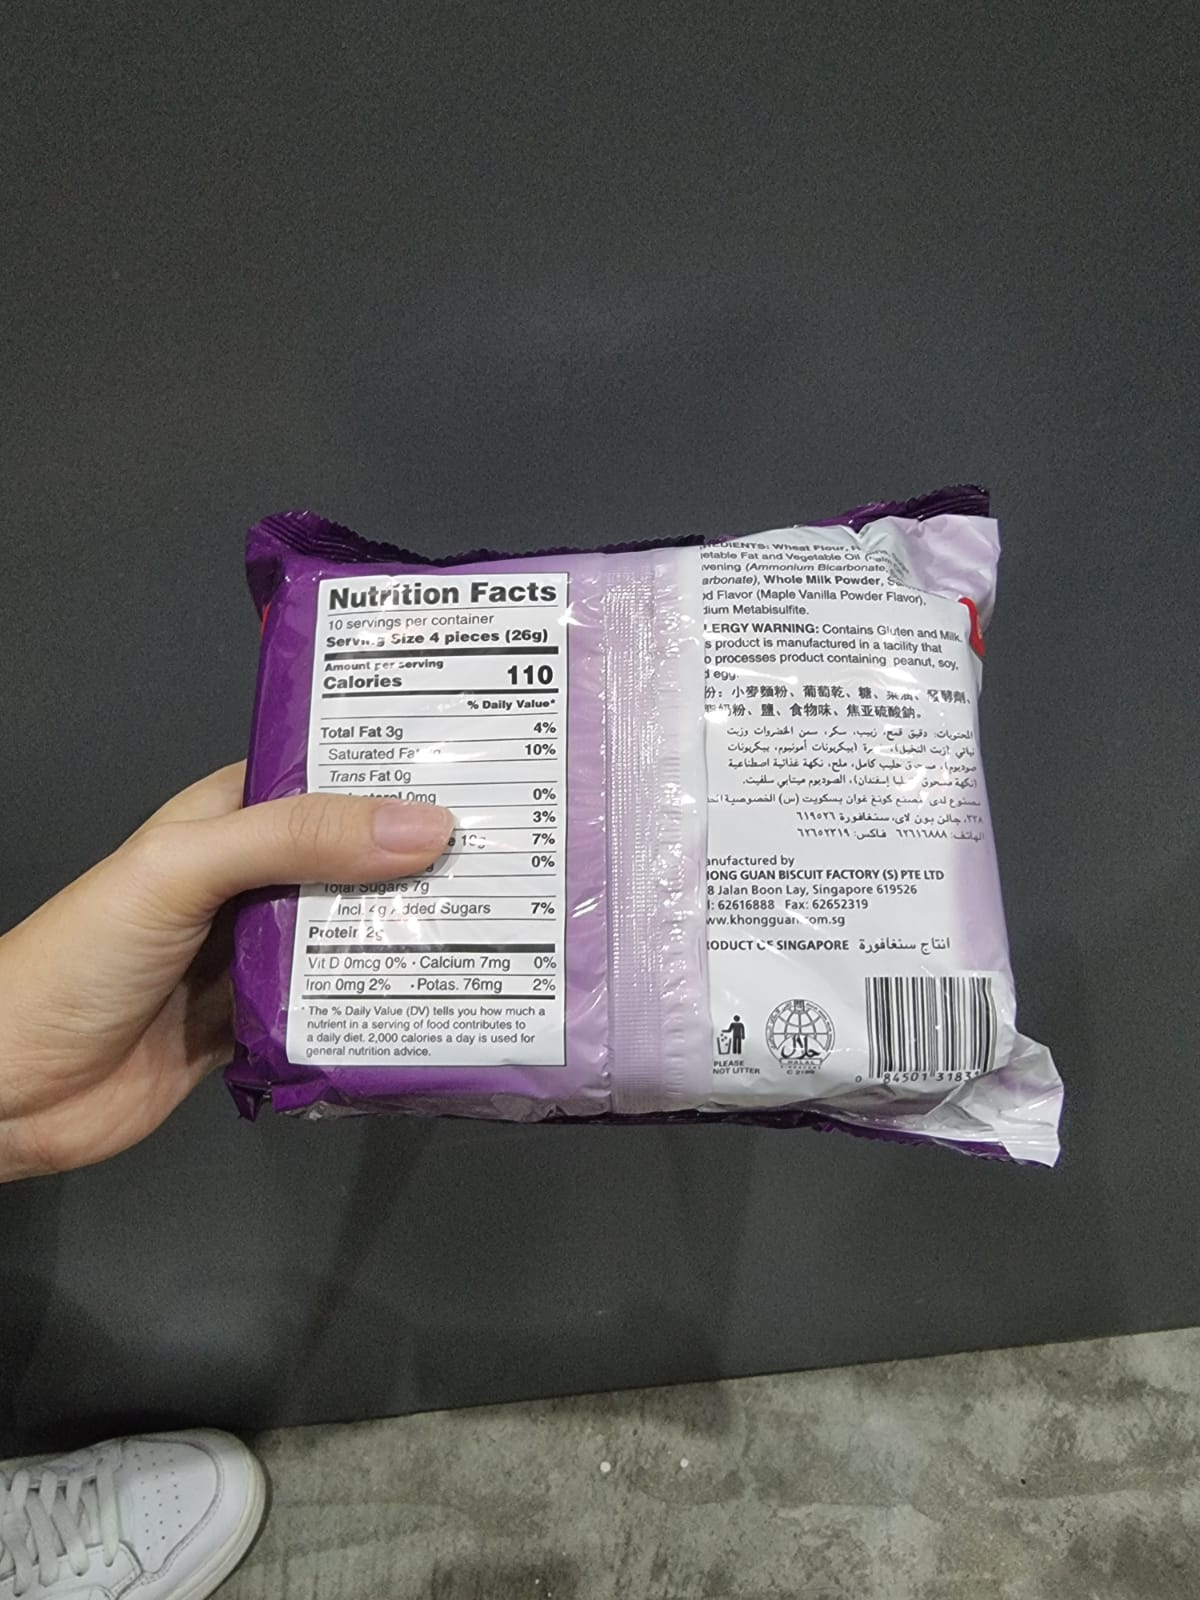Biscuits: (295, 562, 992, 1089)
